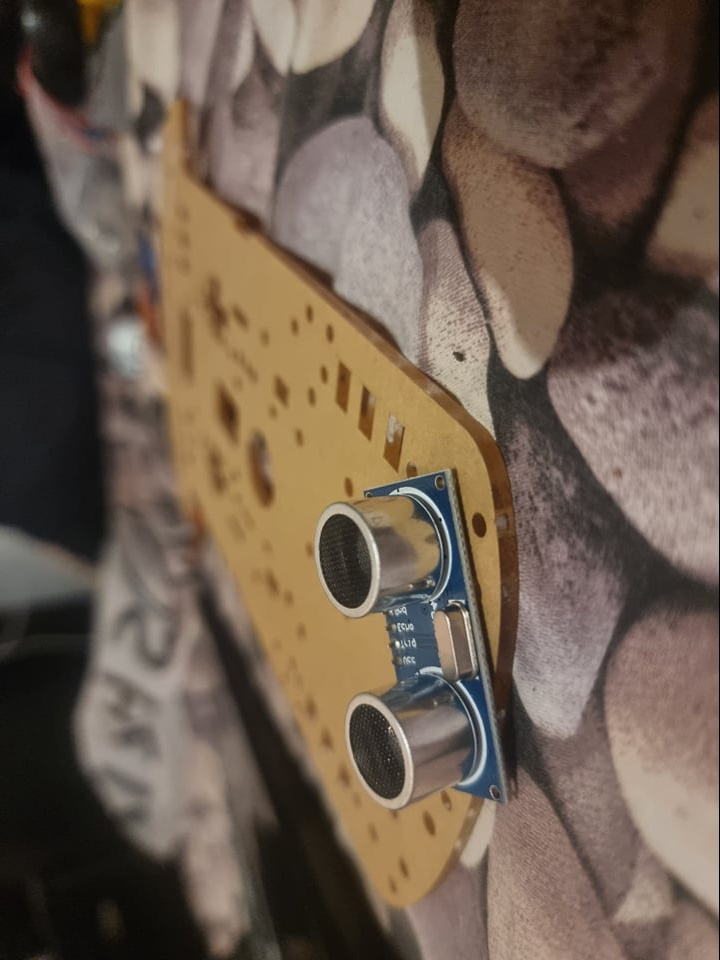SENSOR: (316, 465, 512, 811)
